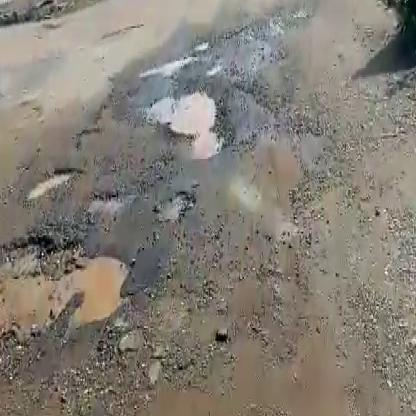pothole: (0, 228, 136, 350), (134, 83, 231, 151), (27, 163, 82, 205), (86, 188, 128, 216)
